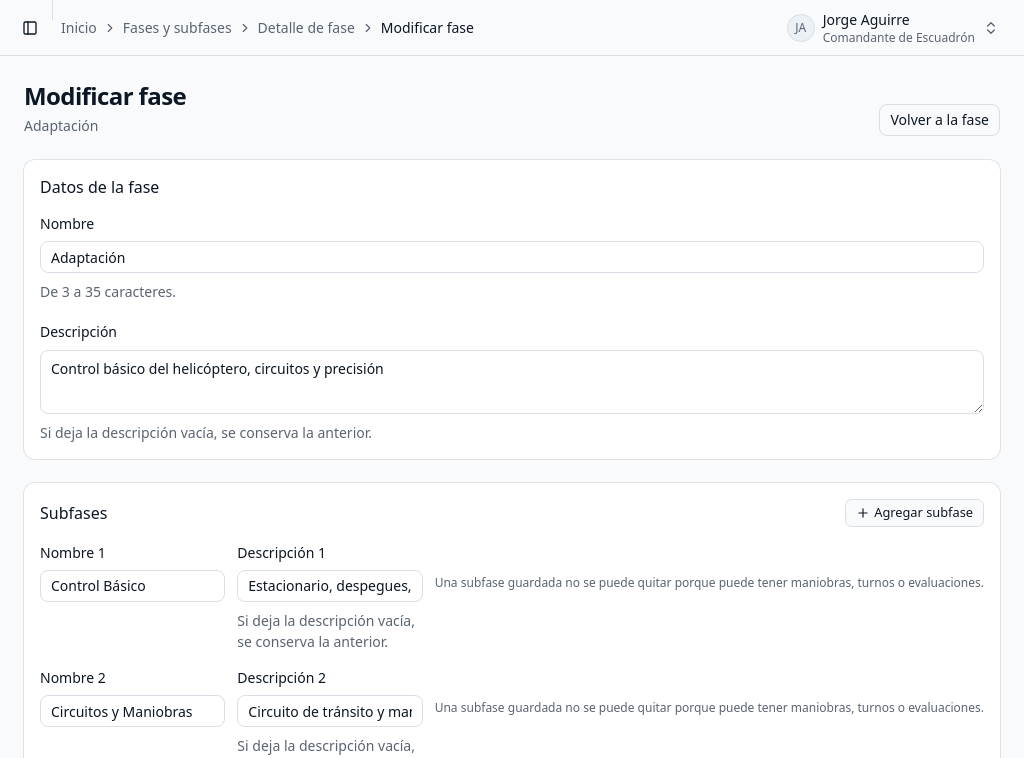
Test: Formulario de fase › CA-FAS-04 al modificar precarga las subfases, no deja quitar las guardadas y agrega nuevas
expect the field labelled "Nombre" holds "Adaptación": met, box [40,241,984,273]
expect the field labelled "Nombre 1" holds "Control Básico": met, box [40,570,225,602]
Click the button "Agregar subfase" at coordinates (915, 512), box [845,498,984,526]
(page scrolled)
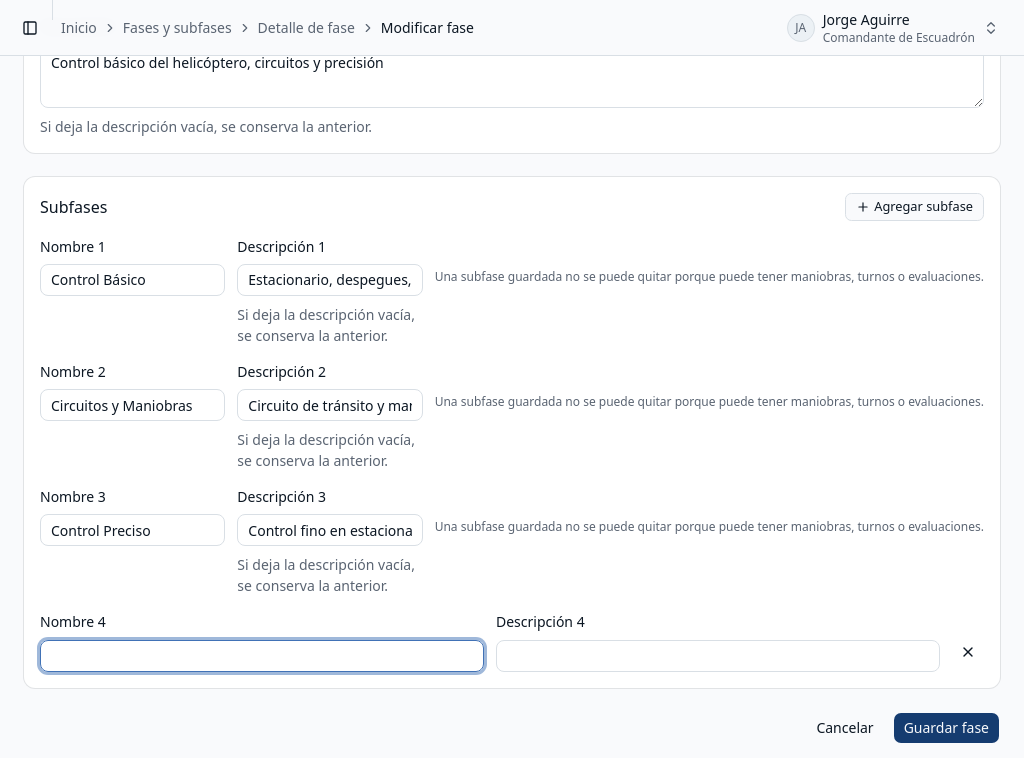
Type "Autorrotaciones" into the field labelled "Nombre 4" at coordinates (262, 656), box [40,640,484,672]
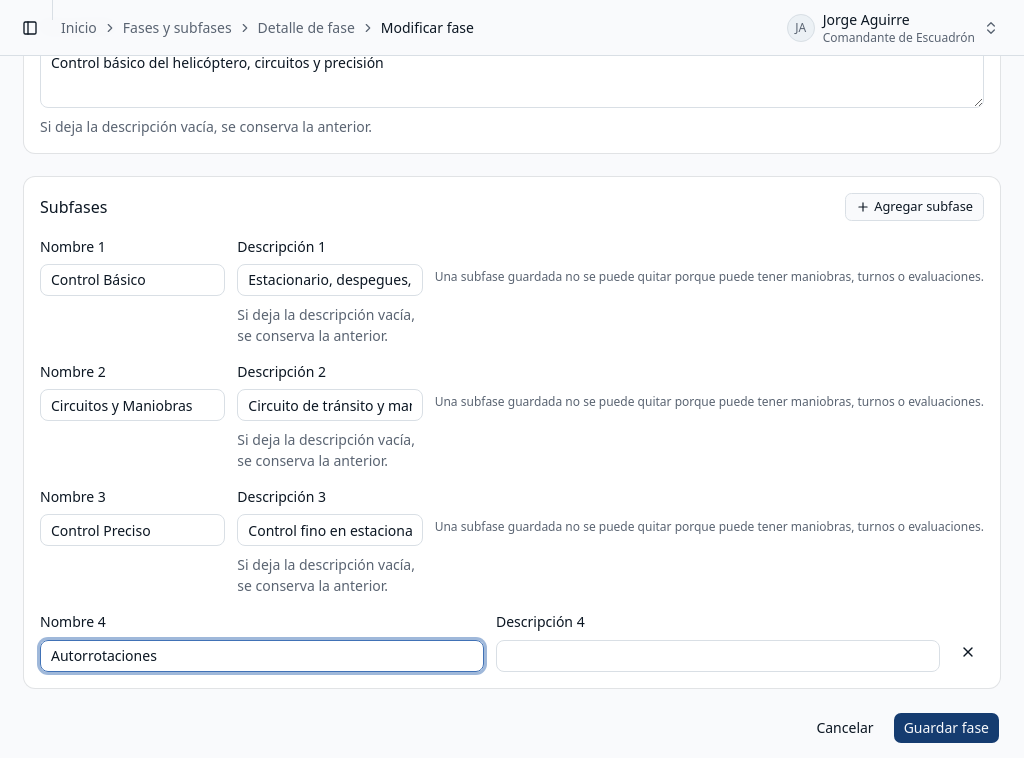
expect the button named "Quitar subfase 4" is shown: met, box [952,636,984,668]
Click the button "Guardar fase" at coordinates (946, 728), box [893,712,1000,744]
(page scrolled)
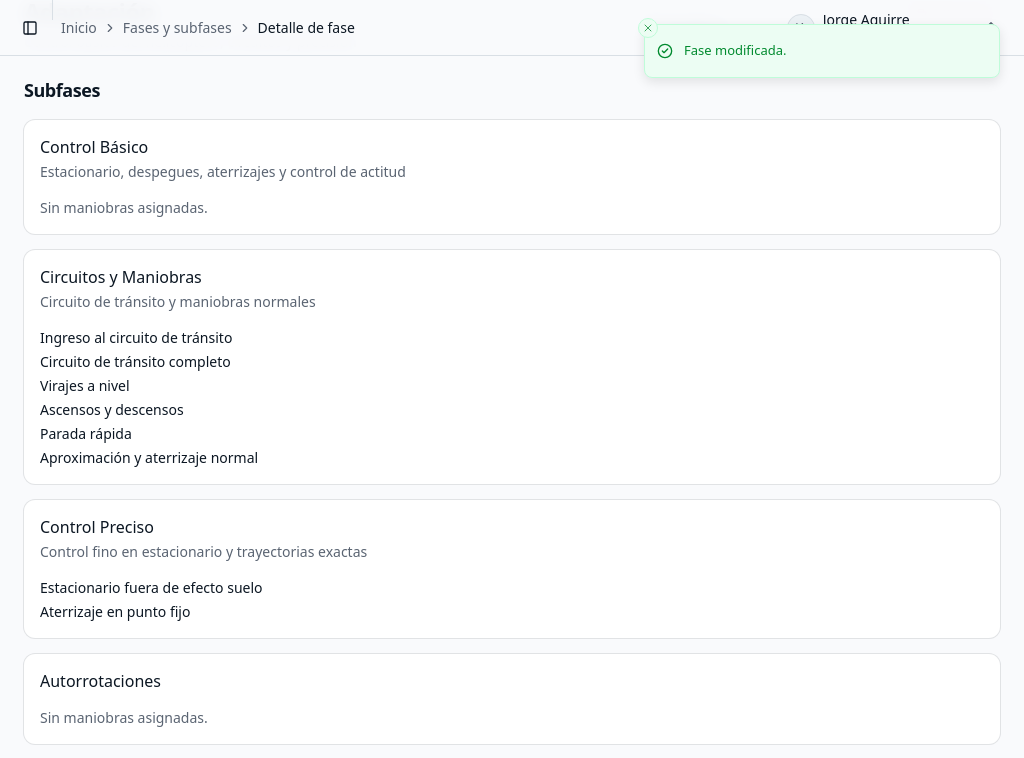
expect the text "Fase modificada." is shown: met, box [684,41,786,60]
expect the element "Autorrotaciones" is shown: met, box [24,654,1000,744]
